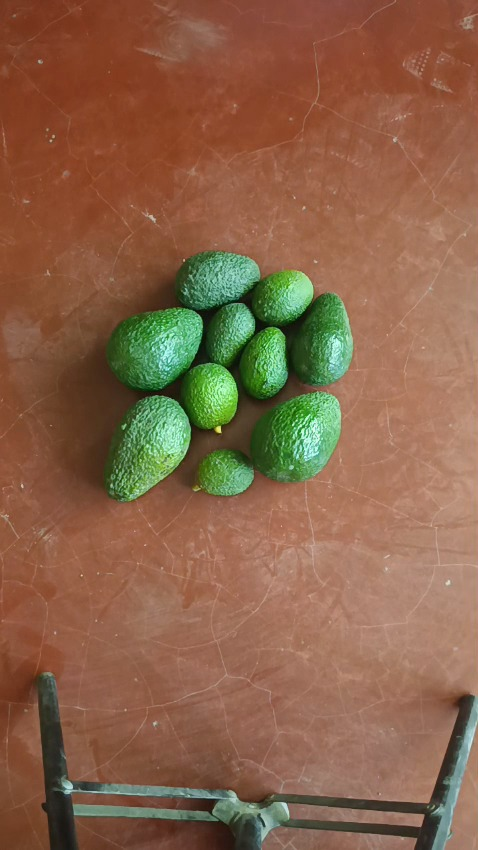Primera: (102, 394, 190, 500), (104, 308, 204, 392), (250, 391, 341, 482)
Segunda: (289, 292, 353, 386), (175, 250, 261, 311)
Tercera: (180, 362, 238, 430), (238, 326, 288, 399), (249, 270, 313, 326), (204, 301, 256, 368), (195, 449, 254, 496)
